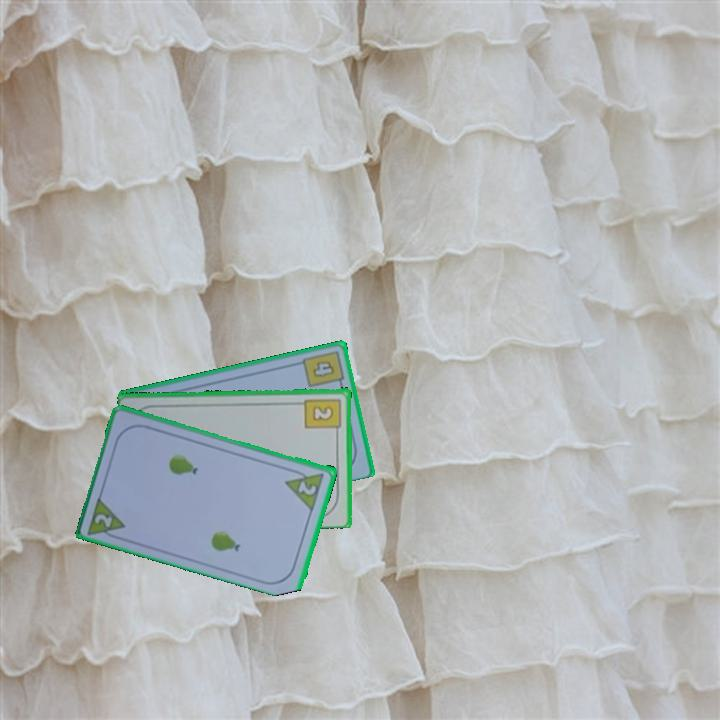2b: (302, 395, 344, 437)
2p: (282, 465, 327, 512), (91, 510, 116, 530)
4b: (299, 347, 346, 390)
